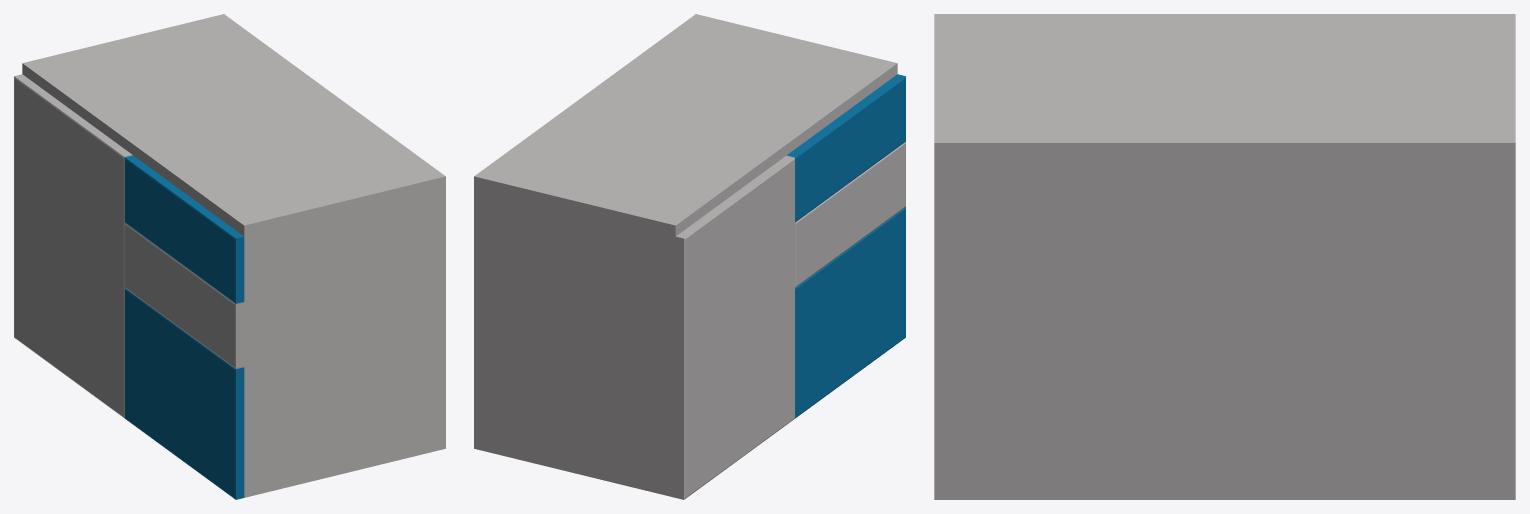
Rendered from LabCabinet.fbx.
3 renders of one model, left to right at view 1: azimuth 30°, elevation 25°; view 2: azimuth 150°, elevation 25°; view 3: azimuth 270°, elevation 25°, orthographic. The views are drawn at different scales.
Visible parts, largest first — view 1: LabCabinet; view 2: LabCabinet; view 3: LabCabinet.
Boxes of the visible parts, x1,y1,x2,y2 form: LabCabinet: (14, 14, 445, 499); LabCabinet: (474, 14, 905, 499); LabCabinet: (934, 14, 1515, 499).
Bounding box in the file's own units: 66.26 × 81.93 × 121.
